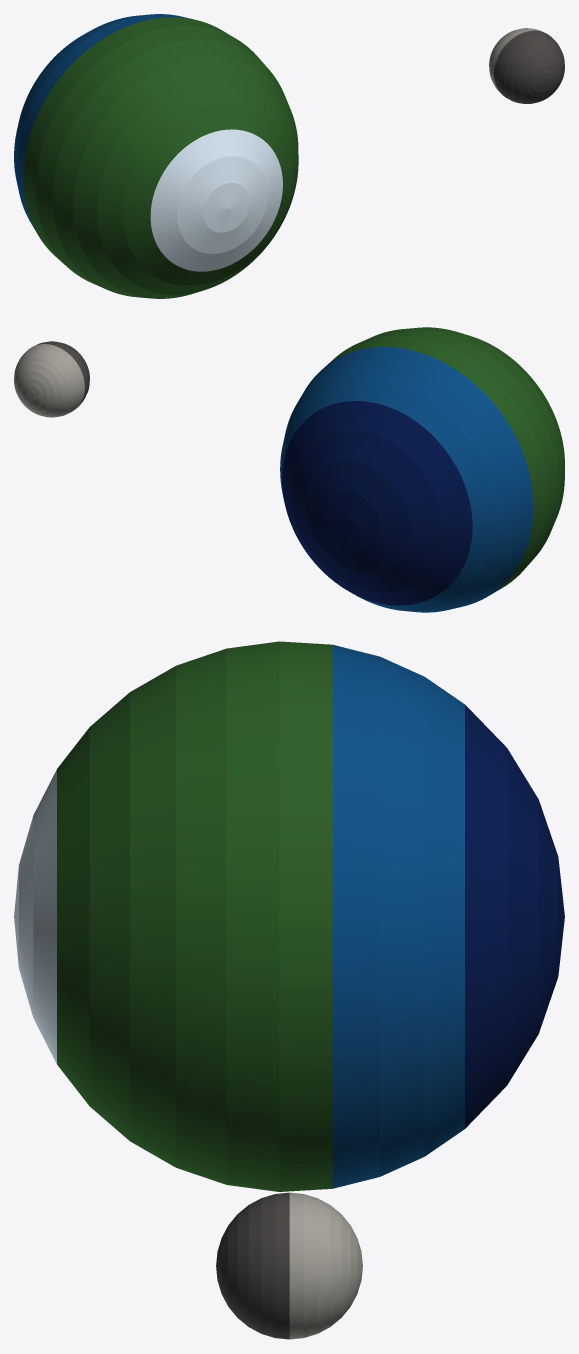
3 views of the same model, one above another, from view 1: azimuth 30°, elevation 25°; view 2: azimuth 150°, elevation 25°; view 3: azimuth 270°, elevation 25° (orthographic). The views are drawn at different scales.
Parts seen in each view (by area): view 1: earth_moon_space; view 2: earth_moon_space; view 3: earth_moon_space.
Part boxes in pixels (x1,y1,x2,y2): earth_moon_space: [14, 14, 564, 298]; earth_moon_space: [14, 327, 564, 612]; earth_moon_space: [14, 641, 564, 1339].
Bounding box in the file's own units: 12.8 × 6 × 6.
